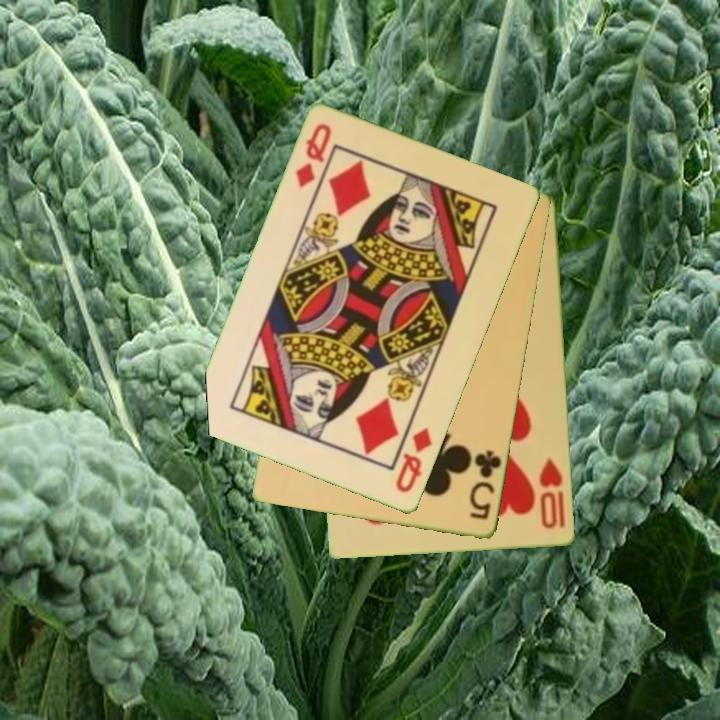10h: (536, 455, 566, 532)
5c: (466, 447, 505, 523)
Qd: (392, 424, 435, 497), (292, 120, 335, 192)
